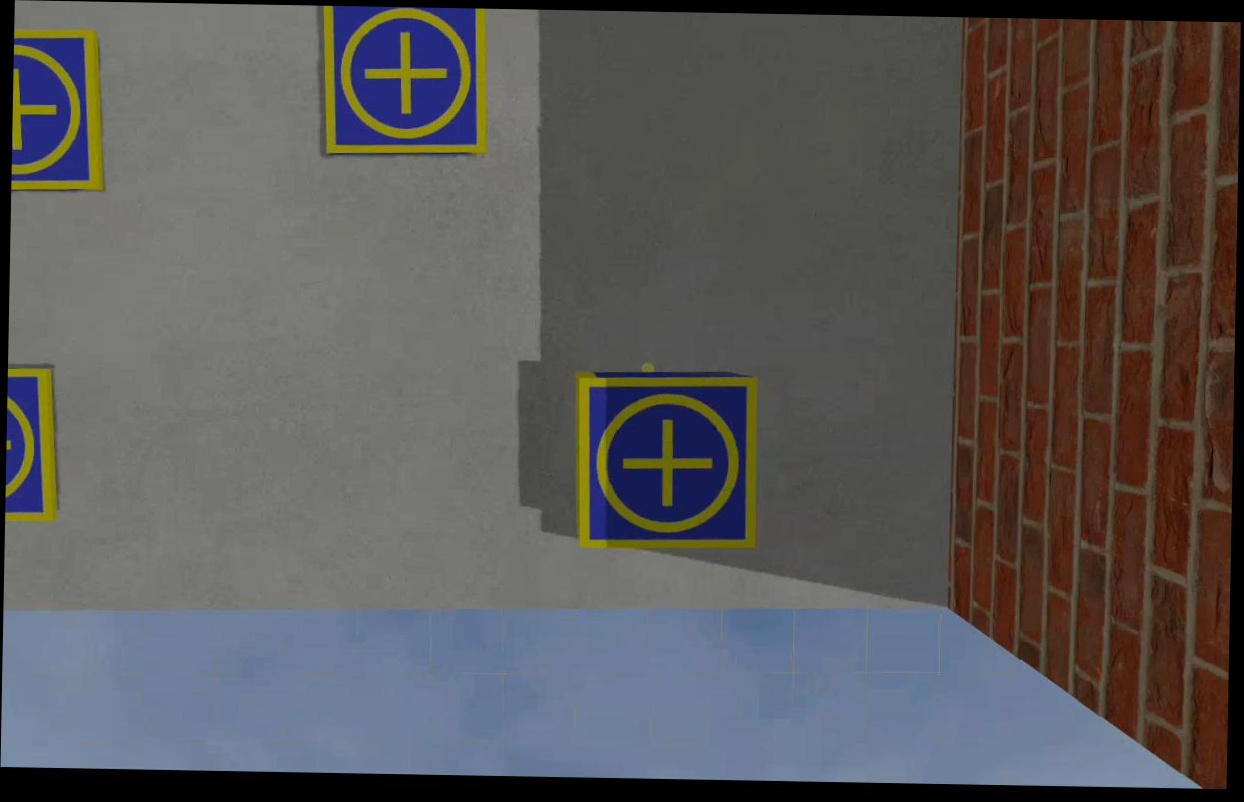small_base: (572, 372, 760, 554), (318, 6, 488, 155), (11, 29, 108, 194), (5, 365, 61, 527)
